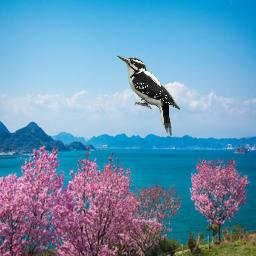Woodpecker: (116, 53, 180, 136)
